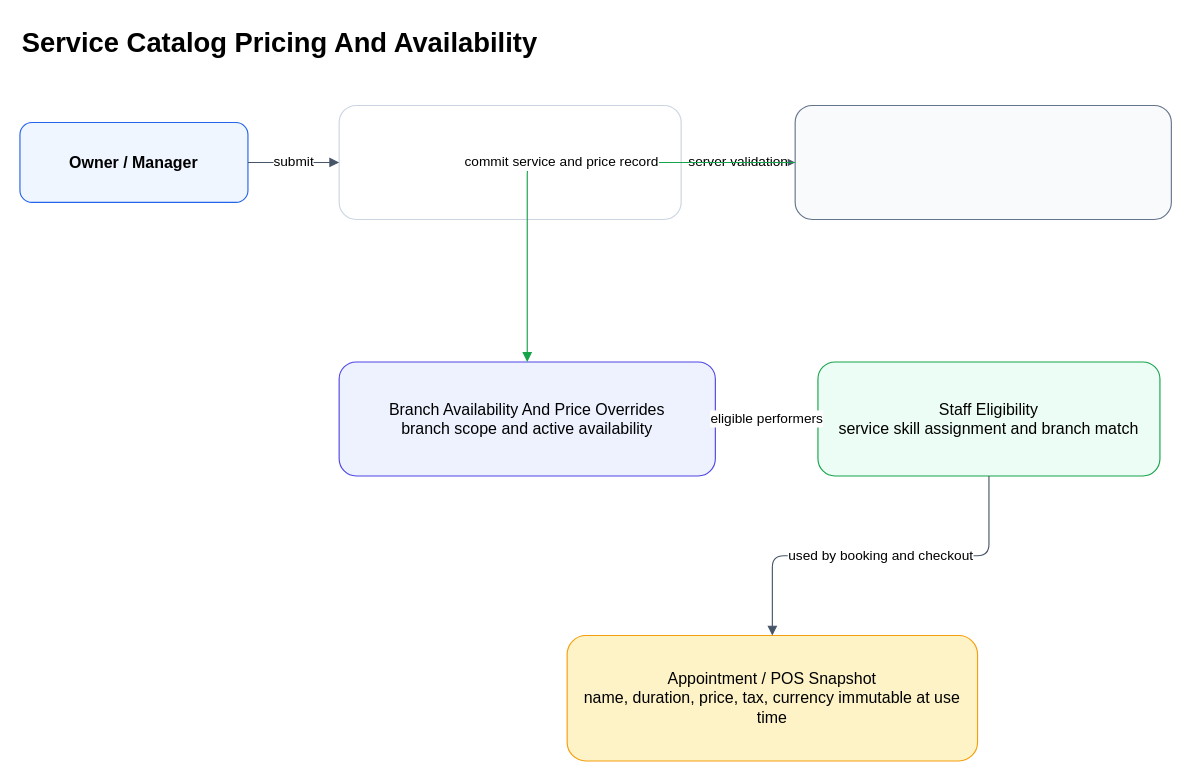
This 1191x781 diagram has some shape labels left out. Each missing label, with the centre of its shape:
Create / Update Service category, name, duration, base price, tax: point (509, 161)
Validate Ownership And Rule Set category scope, duplicate name, price, duration: point (982, 161)
